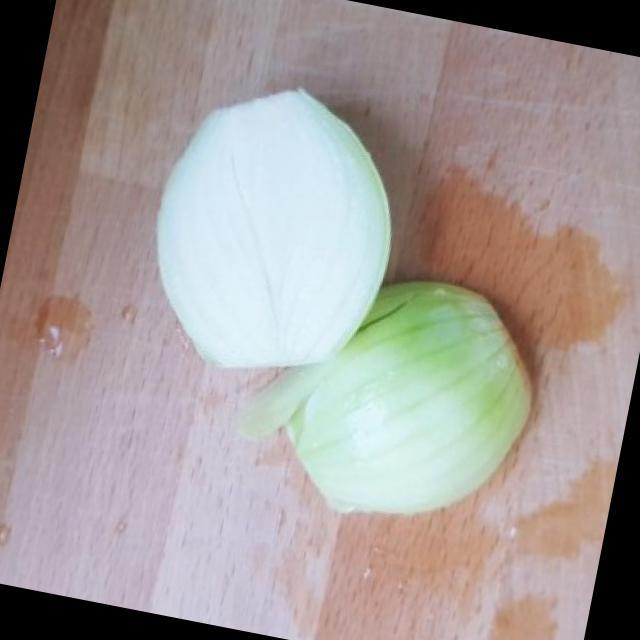Onion: (158, 84, 391, 368), (277, 281, 539, 516)
